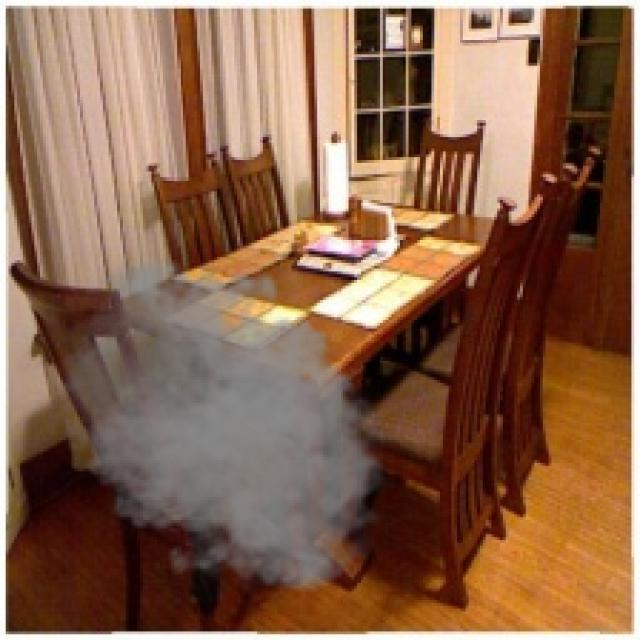Smoke: (39, 248, 394, 598)
